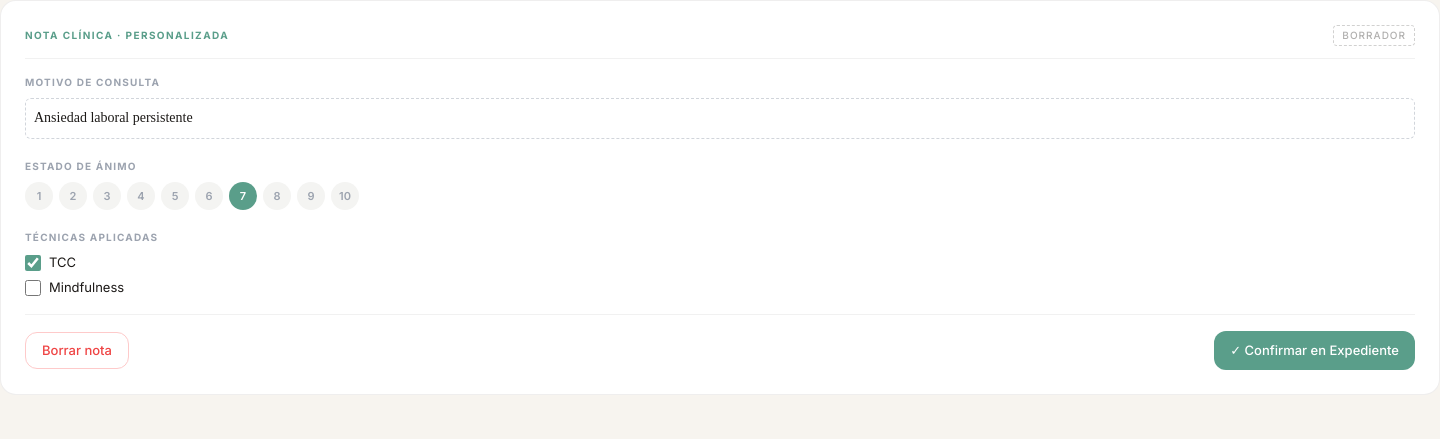
it: CustomNoteDocument › click en campo texto muestra textarea
Click the text "Ansiedad laboral persistente".
click(720, 118)  # box left=25, top=98, right=1415, bottom=139
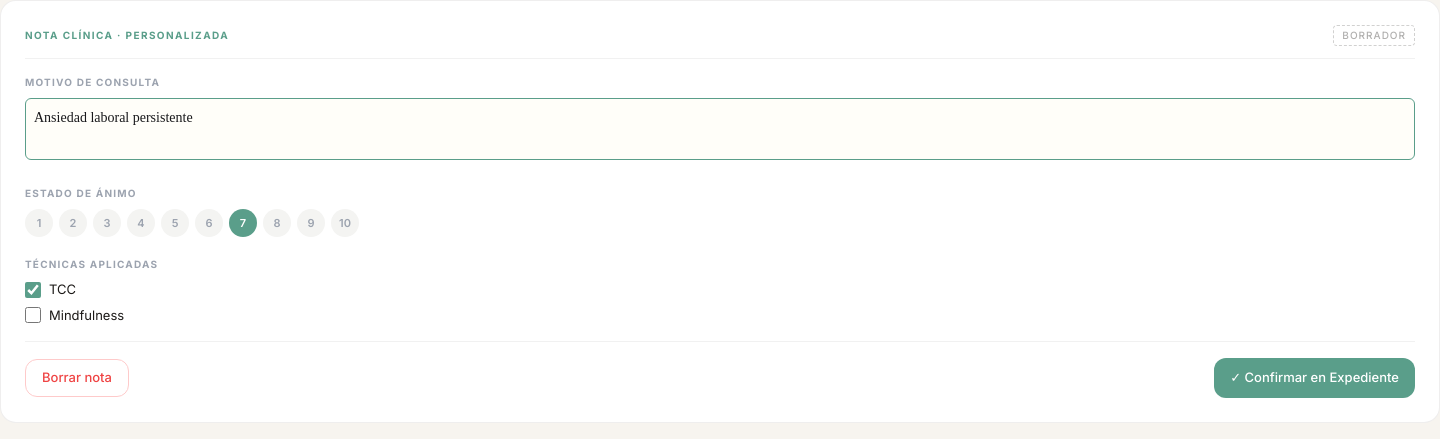
Now the text box is shown, box left=25, top=98, right=1415, bottom=160
